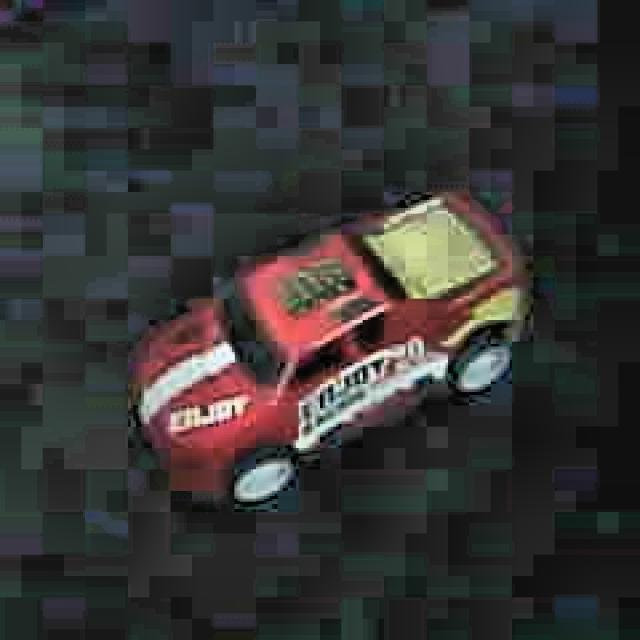car: (128, 178, 535, 514)
